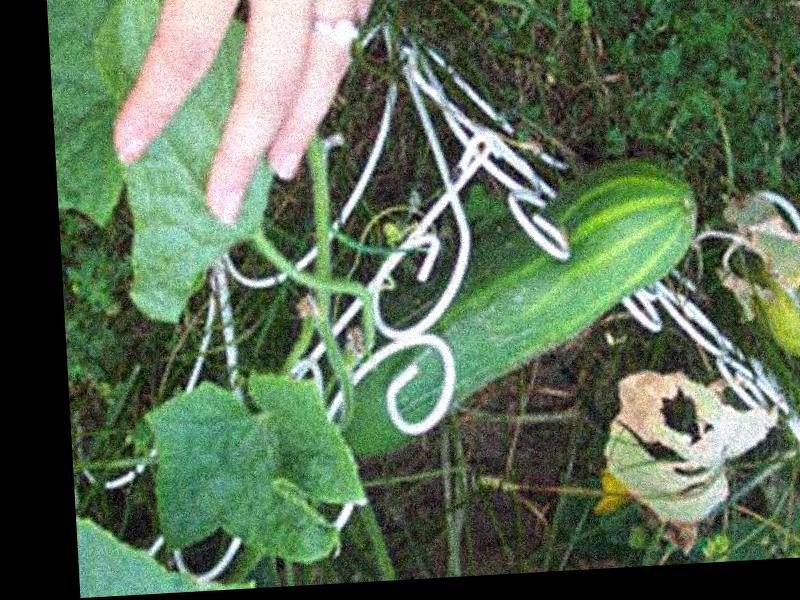Cucumber: (323, 157, 709, 459)
